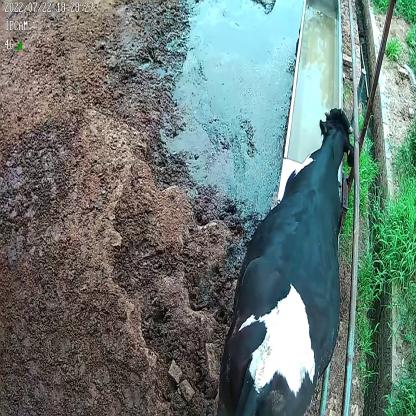cow: (216, 103, 355, 416)
